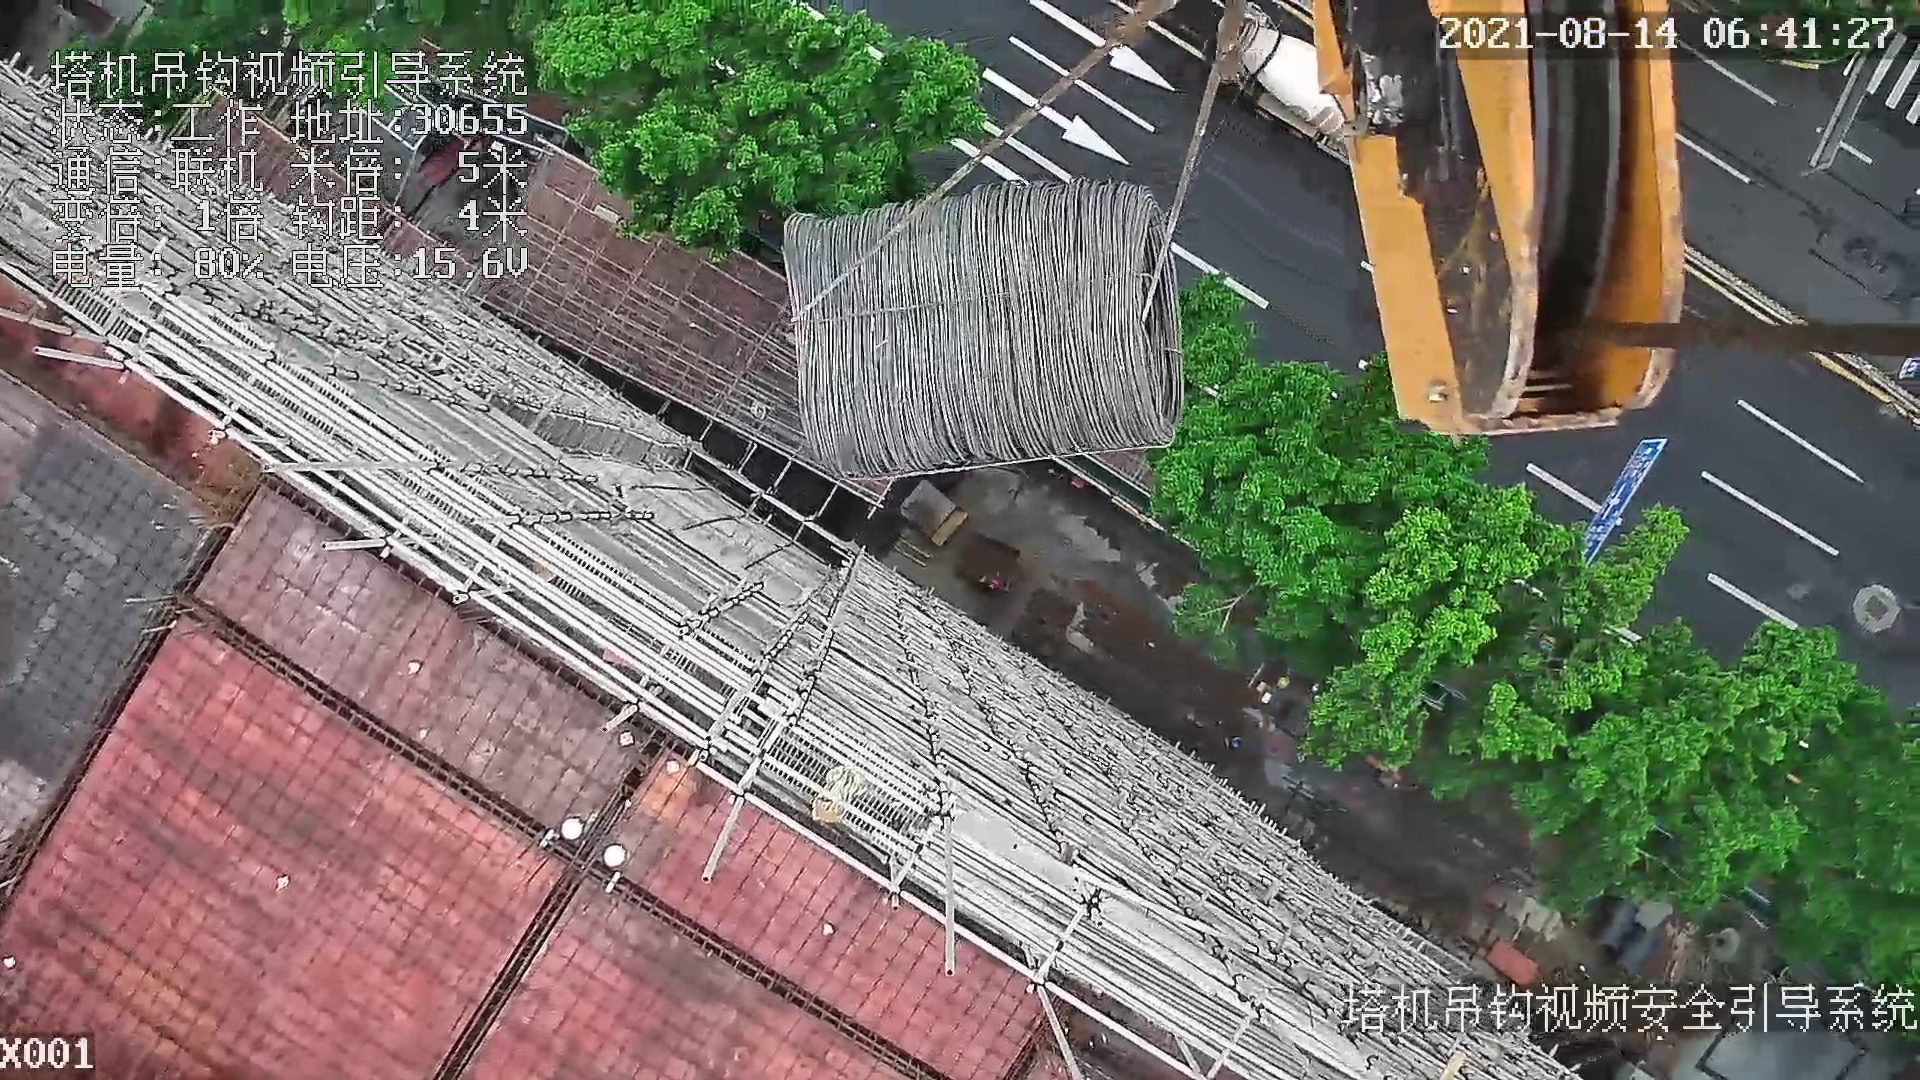hook: (1273, 1, 1695, 431)
